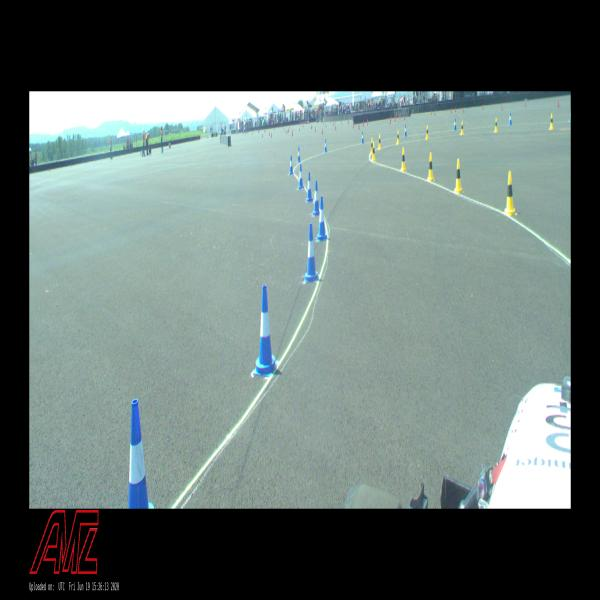blue_cone: (129, 399, 154, 508), (254, 285, 276, 374), (305, 223, 318, 281), (317, 196, 327, 240), (306, 172, 313, 202), (313, 181, 319, 215), (298, 164, 304, 189), (290, 155, 294, 174), (297, 147, 301, 162), (324, 139, 327, 153), (509, 113, 512, 125), (361, 132, 364, 143), (404, 126, 407, 136), (454, 118, 456, 130), (570, 109, 570, 122)
unknown_cone: (450, 108, 452, 114), (434, 110, 436, 116), (358, 123, 360, 129), (482, 105, 484, 110), (394, 117, 396, 122), (292, 128, 293, 136), (558, 100, 559, 107), (363, 120, 364, 127), (322, 128, 323, 134), (525, 100, 526, 106), (463, 107, 464, 113), (455, 106, 456, 112), (367, 120, 368, 126), (353, 122, 354, 128), (271, 132, 272, 138), (315, 127, 316, 132), (404, 114, 405, 119), (399, 114, 400, 119), (335, 126, 336, 131), (262, 133, 263, 138), (269, 131, 270, 136), (299, 126, 300, 131), (431, 110, 432, 115), (390, 115, 391, 120), (396, 114, 397, 118), (333, 121, 334, 125), (288, 128, 289, 132), (311, 125, 312, 129), (252, 131, 253, 135), (348, 119, 349, 123), (323, 121, 324, 125), (264, 128, 265, 132), (274, 128, 275, 131), (341, 120, 342, 123), (502, 105, 502, 110), (390, 119, 390, 124), (348, 119, 348, 124), (352, 117, 352, 121), (286, 128, 286, 134), (326, 123, 326, 127), (284, 126, 284, 130), (331, 120, 331, 123), (335, 120, 335, 123), (312, 124, 312, 128), (266, 129, 266, 133)
yellow_cone: (504, 172, 515, 214), (455, 159, 462, 193), (427, 153, 434, 180), (401, 147, 406, 171), (372, 143, 376, 161), (550, 114, 554, 129), (494, 119, 498, 132), (370, 138, 373, 154), (378, 134, 381, 150), (461, 121, 464, 135), (426, 125, 428, 140), (397, 131, 399, 144)
